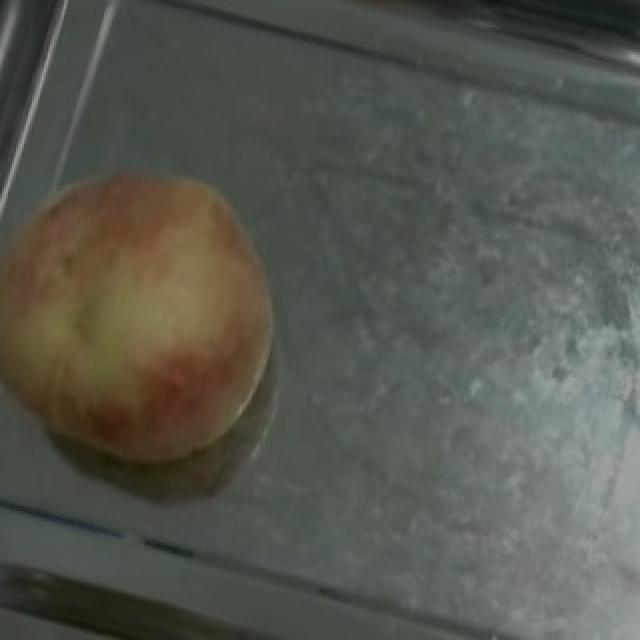Fruit: (0, 121, 304, 514)
